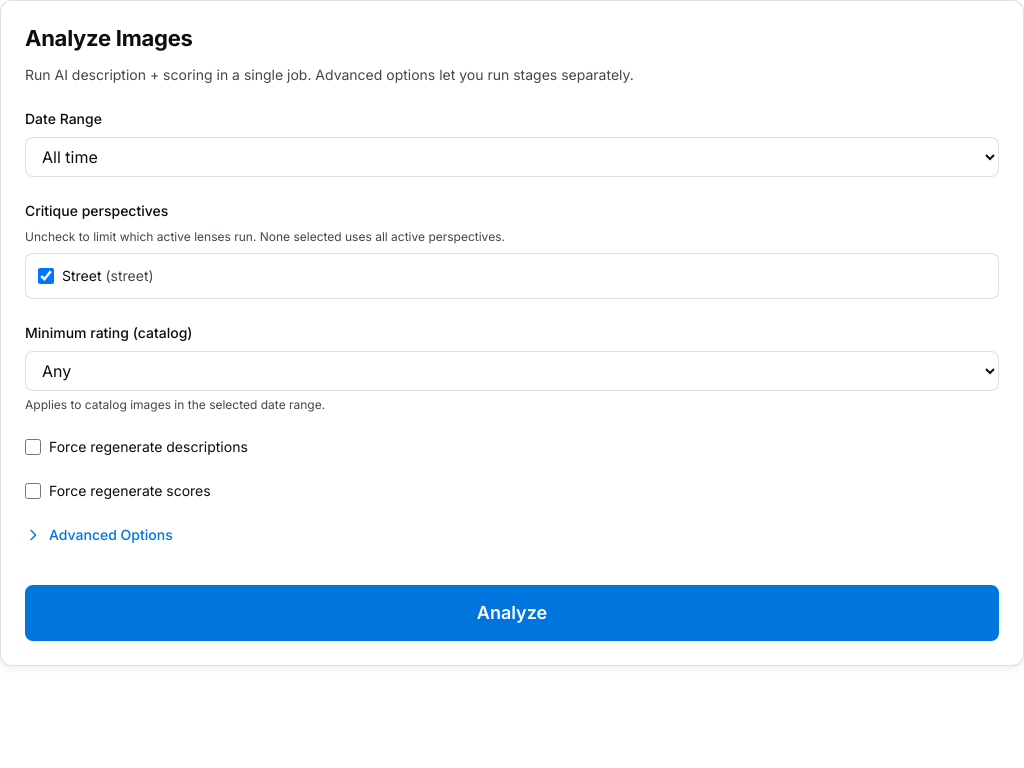
Test case: AnalyzeTab submit UX (fix #1) › shows an inline error banner when the POST fails
Expected: the text "Street (street)" is shown, [62,266,154,286]
Click the button "Analyze" at (512, 613), box [25,585,999,641]
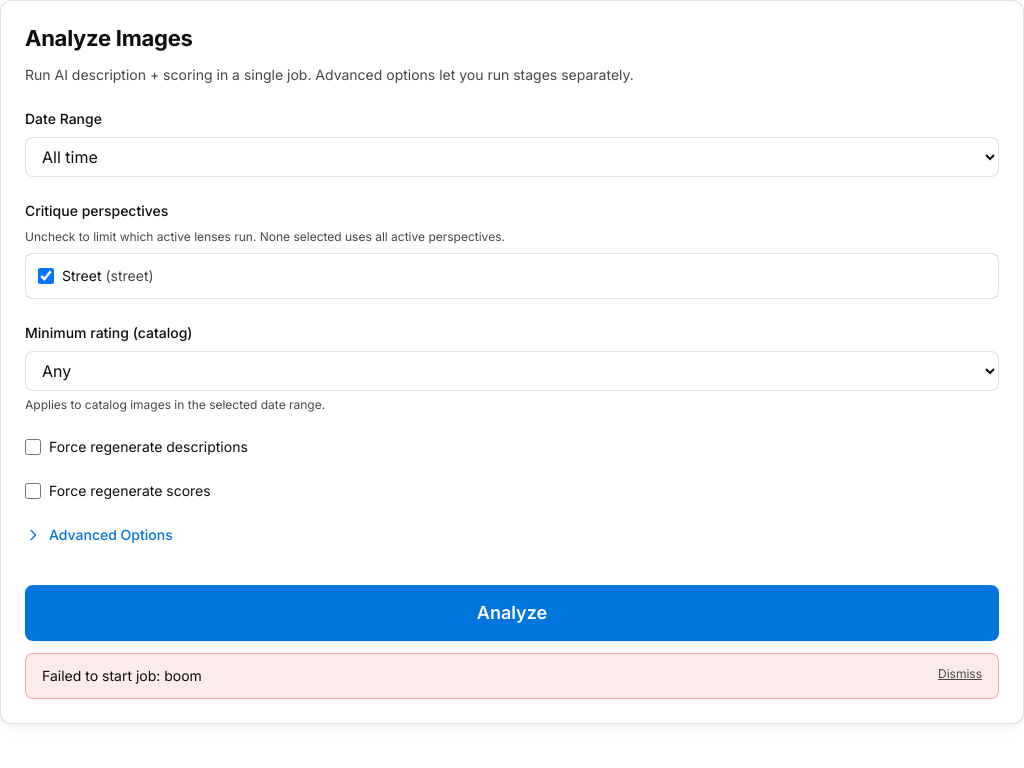
Expected: the message with test id "analyze-status-banner" shows "boom", [42,667,202,684]
